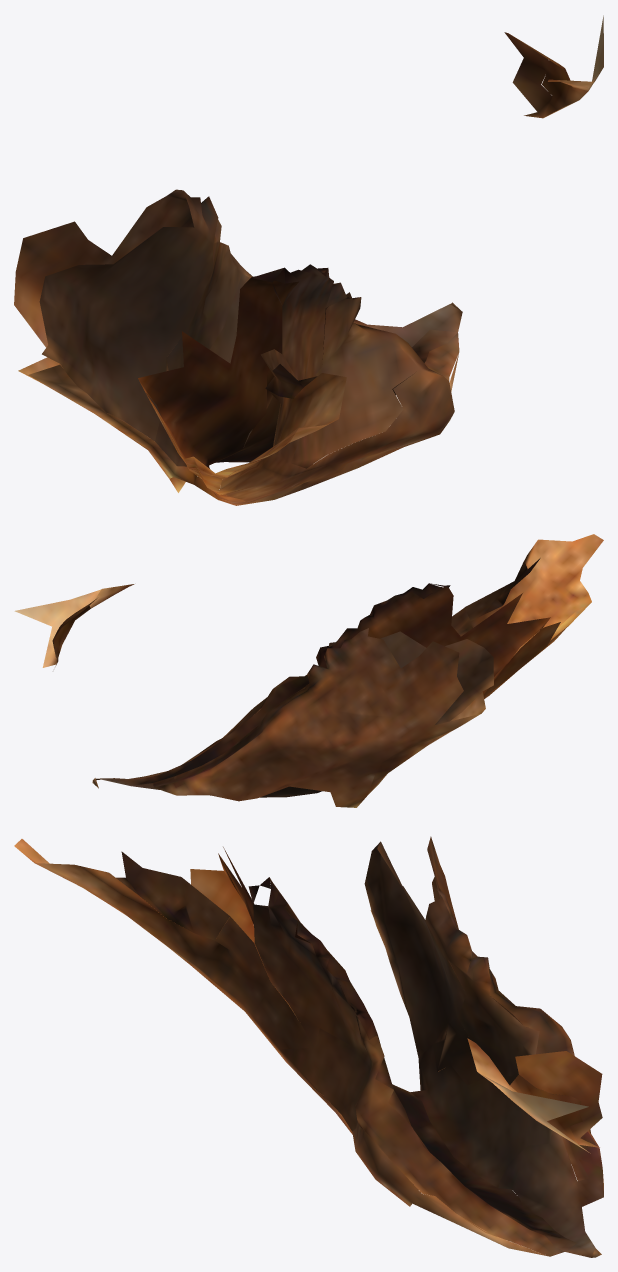
The model's file is Triceratops_ToothRow.fbx.
The picture shows the model from 3 angles, top to bottom: view 1: azimuth 30°, elevation 25°; view 2: azimuth 150°, elevation 25°; view 3: azimuth 270°, elevation 25°; orthographic projection. The views are drawn at different scales.
Visible parts, largest first — view 1: Triceratops_ToothRow; view 2: Triceratops_ToothRow; view 3: Triceratops_ToothRow.
Part boxes in pixels (bbox=[...]): Triceratops_ToothRow: bbox=[14, 15, 603, 505]; Triceratops_ToothRow: bbox=[14, 534, 603, 807]; Triceratops_ToothRow: bbox=[14, 836, 603, 1257].
Size of the model in its own units: 0.1409 by 0.0597 by 0.1322.
Materials: 1 (1 with a texture image).
